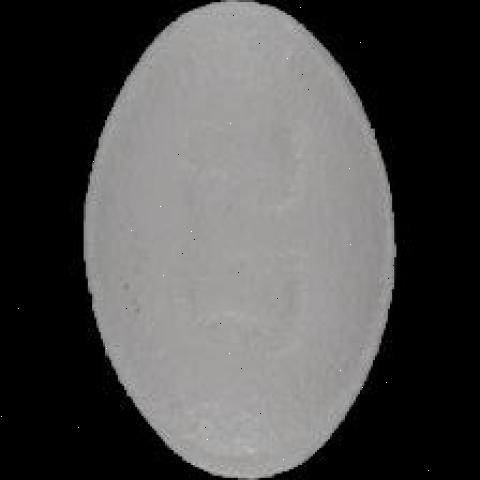Pill: (53, 1, 429, 476)
